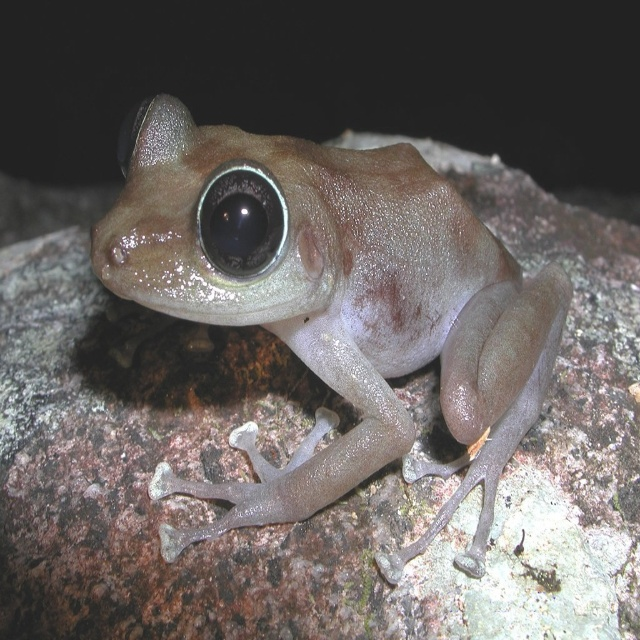Frog: (88, 93, 576, 585)
